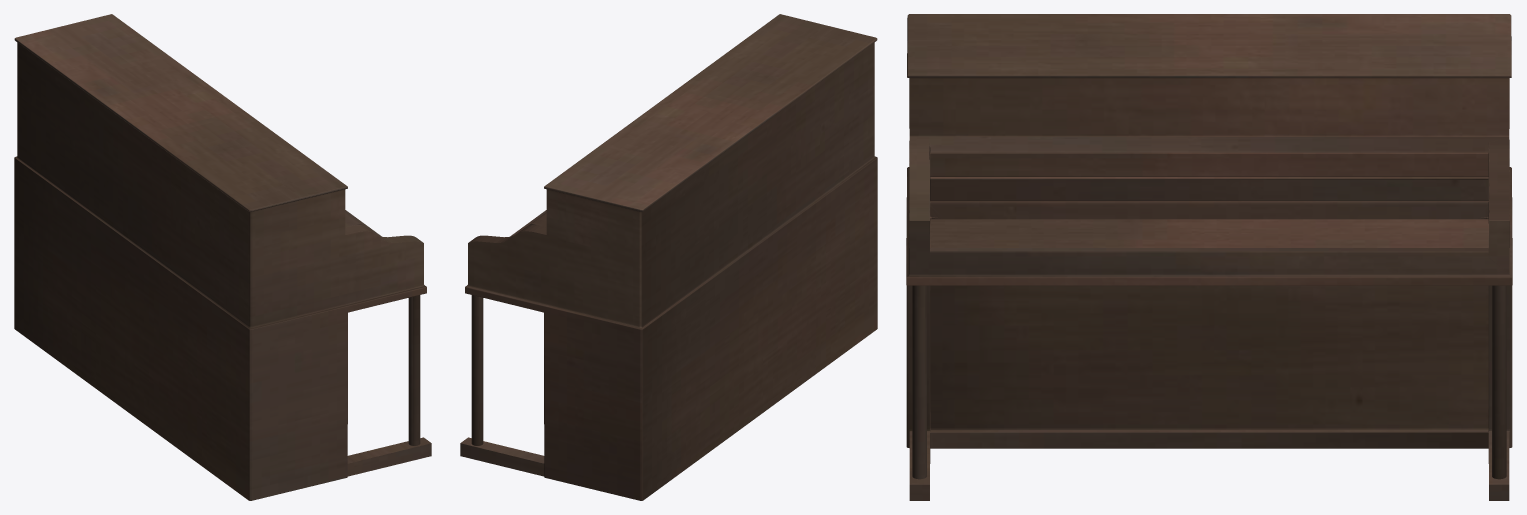
The model's file is PianoBody.obj.
The picture shows the model from 3 angles, left to right: view 1: azimuth 30°, elevation 25°; view 2: azimuth 150°, elevation 25°; view 3: azimuth 270°, elevation 25°; orthographic projection. The views are drawn at different scales.
Visible parts, largest first — view 1: PianoBody; view 2: PianoBody; view 3: PianoBody.
Part boxes in pixels (left/top/right/bottom): PianoBody: left=14, top=14, right=431, bottom=500; PianoBody: left=460, top=14, right=877, bottom=500; PianoBody: left=906, top=14, right=1512, bottom=500.
Size of the model in its own units: 0.5804 by 0.8822 by 1.3.
